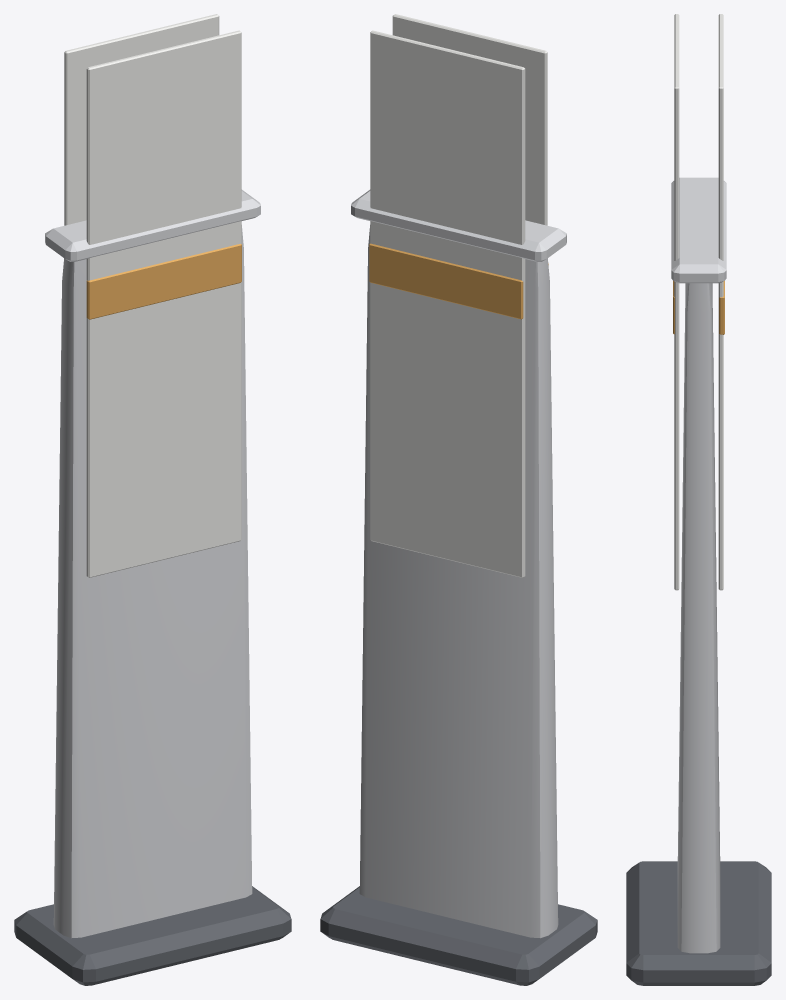
File: office-lobby-and-facilities-directory-totem-74feb7dd__26299.glb
The picture shows the model from 3 angles, left to right: view 1: azimuth 30°, elevation 25°; view 2: azimuth 150°, elevation 25°; view 3: azimuth 270°, elevation 25°; orthographic projection.
Parts seen in each view (by area): view 1: directory-totem; view 2: directory-totem; view 3: directory-totem.
Boxes of the visible parts, box(x1,y1,x2,y2) form: directory-totem: box(14, 14, 291, 985); directory-totem: box(320, 14, 597, 985); directory-totem: box(626, 14, 771, 985).
Size of the model in its own units: 0.58 by 2.29 by 0.34.
